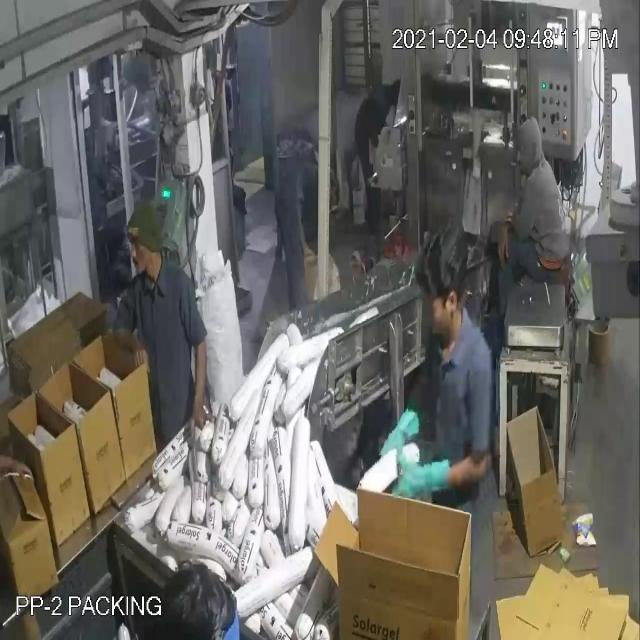No_Gloves: (28, 68, 509, 484)
